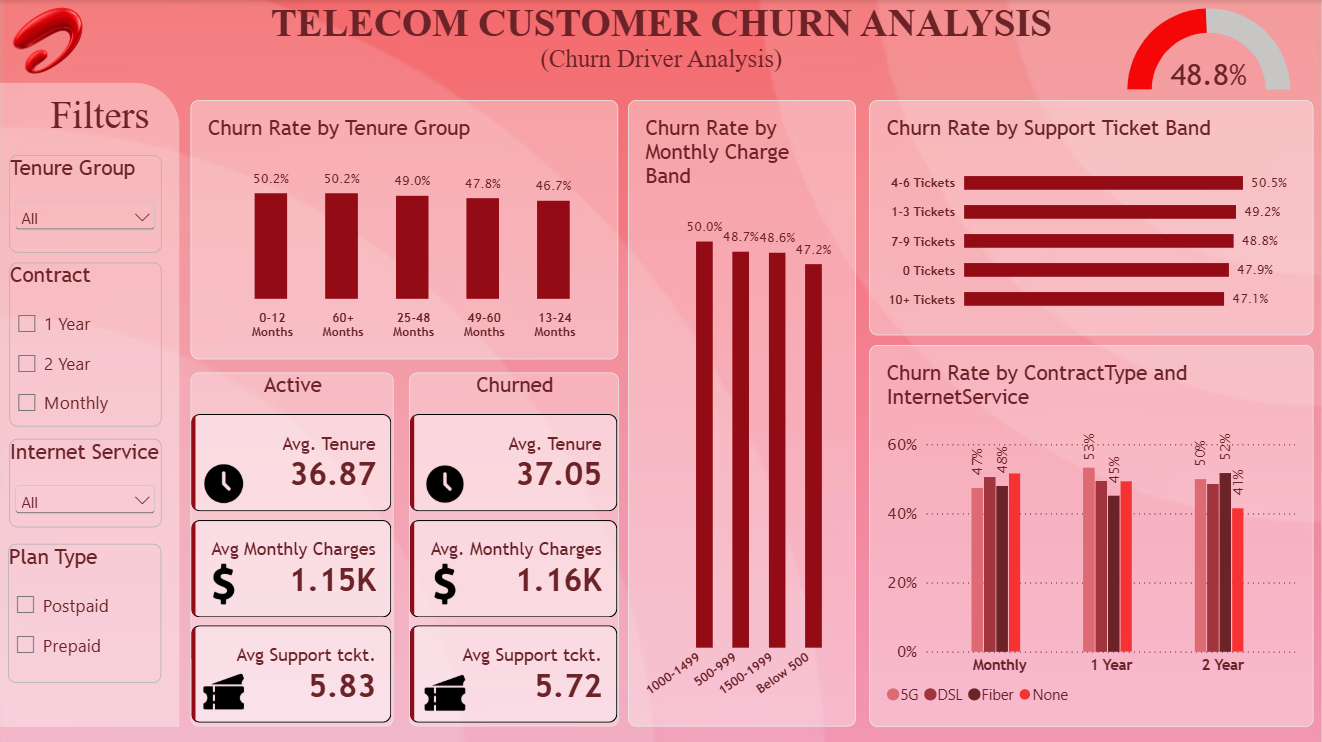

The page's visual inventory and layout, read from the dashboard file:
{"tool":"powerbi","page":{"name":"Churn Drivers","canvas":[1280,720],"ordinal":2},"visuals":[{"type":"textbox","box":[0,0,1280.3,73.4],"z":0},{"type":"columnChart","fields":{"Y":["Measures (2).Churn Rate"],"Category":["Telecom_Data.Tenure Group"]},"box":[185.6,96.6,413.2,250.5],"z":1000},{"type":"shape","box":[0,79.6,175.4,622.1],"z":2000},{"type":"textbox","box":[0,89.6,196.6,51],"z":3000},{"type":"slicer","title":"Tenure Group","fields":{"Values":["Telecom_Data.Tenure Group"]},"box":[11.2,149.3,146.8,94.6],"z":4000},{"type":"slicer","title":"Contract","fields":{"Values":["Telecom_Data.ContractType"]},"box":[11.2,253.8,146.8,158],"z":5000},{"type":"slicer","title":"Internet Service","fields":{"Values":["Telecom_Data.InternetService"]},"box":[11.2,423,146.8,85.8],"z":6000},{"type":"slicer","title":"Plan Type","fields":{"Values":["Telecom_Data.PlanType"]},"box":[10,525,148.1,134.4],"z":7000},{"type":"image","box":[0,6.2,94.6,67.2],"z":8000},{"type":"gauge","fields":{"Y":["Measures (2).Churn Rate"]},"box":[1055.2,0,225,96.6],"z":9000},{"type":"columnChart","fields":{"Y":["Measures (2).Churn Rate"],"Category":["Telecom_Data.Monthly Charge Band"]},"box":[607.7,96.6,219.9,605.2],"z":10000},{"type":"clusteredColumnChart","fields":{"Category":["Telecom_Data.ContractType"],"Series":["Telecom_Data.InternetService"],"Y":["Measures (2).Churn Rate"]},"box":[840.4,333.1,428.4,368.7],"z":11000},{"type":"cardVisual","title":"Active","fields":{"Data":["Measures (2).Active Avg Tenure","Measures (2).Avg Monthly Charges","Measures (2).Active Avg Support Tickets"]},"box":[185.6,359.8,195.8,342],"z":12000},{"type":"cardVisual","title":"Churned","fields":{"Data":["Measures (2).Churned Avg Tenure","Measures (2).Churned Avg Monthly Charges","Measures (2).Churned Avg Support Tickets"]},"box":[396.7,359.8,202.1,342],"z":13000},{"type":"image","box":[197.1,446.2,42,40.7],"z":14000},{"type":"image","box":[197.1,544.1,42,39.4],"z":15000},{"type":"image","box":[197.1,648.4,42,39.4],"z":16000},{"type":"image","box":[410.6,447.5,42,39.4],"z":17000},{"type":"image","box":[410.6,544.1,42,39.4],"z":18000},{"type":"image","box":[410.6,649.7,42,39.4],"z":19000},{"type":"clusteredBarChart","fields":{"Y":["Measures (2).Churn Rate"],"Category":["Telecom_Data.Support Ticket Band"]},"box":[840.4,96.6,428.4,227.6],"z":20000}]}

Visuals, with their boxes in screenshot pixels (x1, y1, x2, y2), scaled from the page's 1280x720 canvas onto the 1322x742 screenshot:
textbox: {"x1": 0, "y1": 0, "x2": 1321, "y2": 76}
columnChart - Measures (2).Churn Rate x Telecom_Data.Tenure Group: {"x1": 192, "y1": 100, "x2": 618, "y2": 358}
shape: {"x1": 0, "y1": 82, "x2": 181, "y2": 723}
textbox: {"x1": 0, "y1": 92, "x2": 203, "y2": 145}
"Tenure Group" slicer: {"x1": 12, "y1": 154, "x2": 163, "y2": 251}
"Contract" slicer: {"x1": 12, "y1": 262, "x2": 163, "y2": 424}
"Internet Service" slicer: {"x1": 12, "y1": 436, "x2": 163, "y2": 524}
"Plan Type" slicer: {"x1": 10, "y1": 541, "x2": 163, "y2": 680}
image: {"x1": 0, "y1": 6, "x2": 98, "y2": 76}
gauge - Measures (2).Churn Rate: {"x1": 1090, "y1": 0, "x2": 1321, "y2": 100}
columnChart - Measures (2).Churn Rate x Telecom_Data.Monthly Charge Band: {"x1": 628, "y1": 100, "x2": 855, "y2": 723}
clusteredColumnChart - Telecom_Data.ContractType x Telecom_Data.InternetService: {"x1": 868, "y1": 343, "x2": 1310, "y2": 723}
"Active" cardVisual: {"x1": 192, "y1": 371, "x2": 394, "y2": 723}
"Churned" cardVisual: {"x1": 410, "y1": 371, "x2": 618, "y2": 723}
image: {"x1": 204, "y1": 460, "x2": 247, "y2": 502}
image: {"x1": 204, "y1": 561, "x2": 247, "y2": 601}
image: {"x1": 204, "y1": 668, "x2": 247, "y2": 709}
image: {"x1": 424, "y1": 461, "x2": 467, "y2": 502}
image: {"x1": 424, "y1": 561, "x2": 467, "y2": 601}
image: {"x1": 424, "y1": 670, "x2": 467, "y2": 710}
clusteredBarChart - Measures (2).Churn Rate x Telecom_Data.Support Ticket Band: {"x1": 868, "y1": 100, "x2": 1310, "y2": 334}
